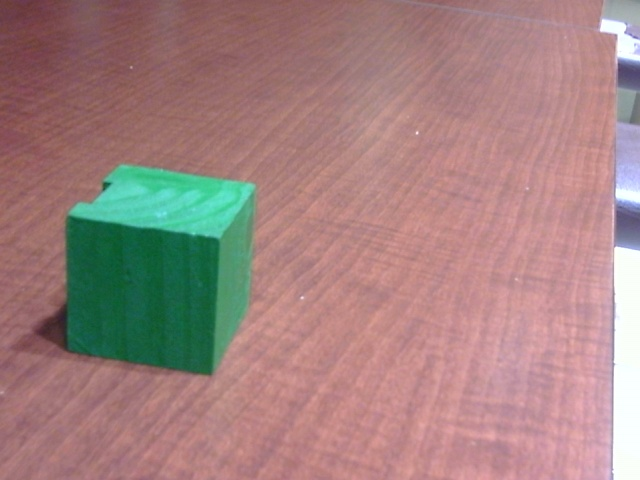GreenBlock: (66, 214, 228, 377)
